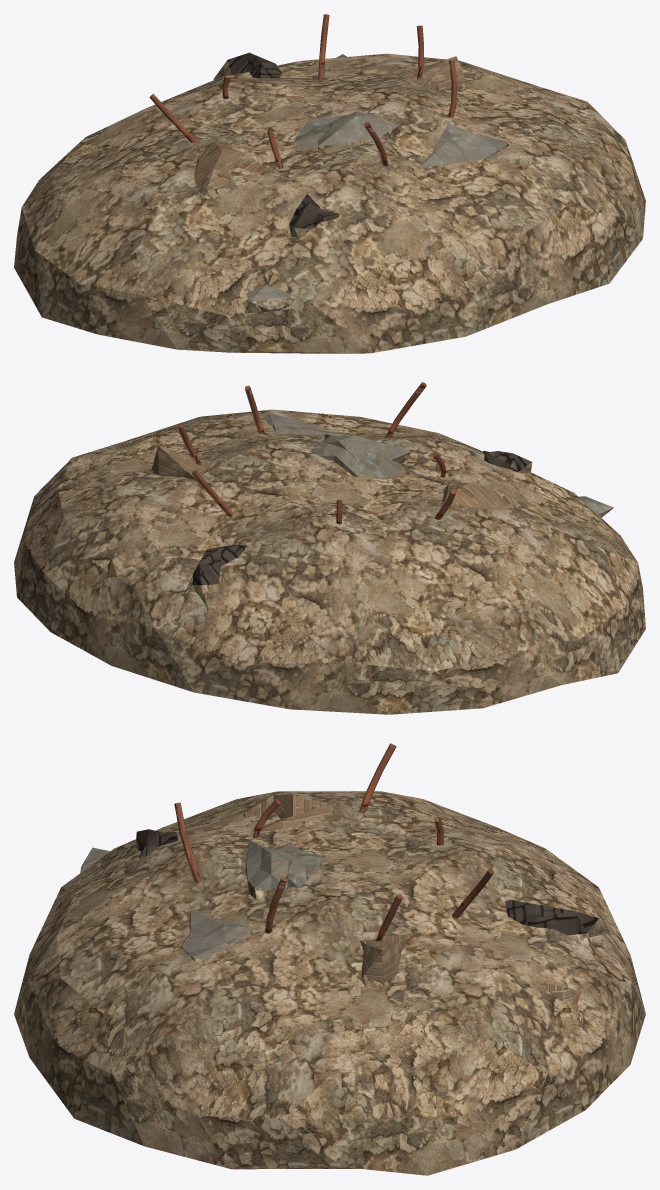
The model's file is Wreckage_RubblePile.fbx.
3 renders of one model, top to bottom at view 1: azimuth 30°, elevation 25°; view 2: azimuth 150°, elevation 25°; view 3: azimuth 270°, elevation 25°, orthographic. The views are drawn at different scales.
Parts seen in each view (by area): view 1: Wreckage_RubblePile; view 2: Wreckage_RubblePile; view 3: Wreckage_RubblePile.
Part boxes in pixels (left/top/right/bottom): Wreckage_RubblePile: left=14, top=14, right=645, bottom=353; Wreckage_RubblePile: left=14, top=382, right=645, bottom=714; Wreckage_RubblePile: left=14, top=743, right=645, bottom=1175.
Size of the model in its own units: 3.3 by 0.981 by 2.7.
5 materials, 5 textured.
